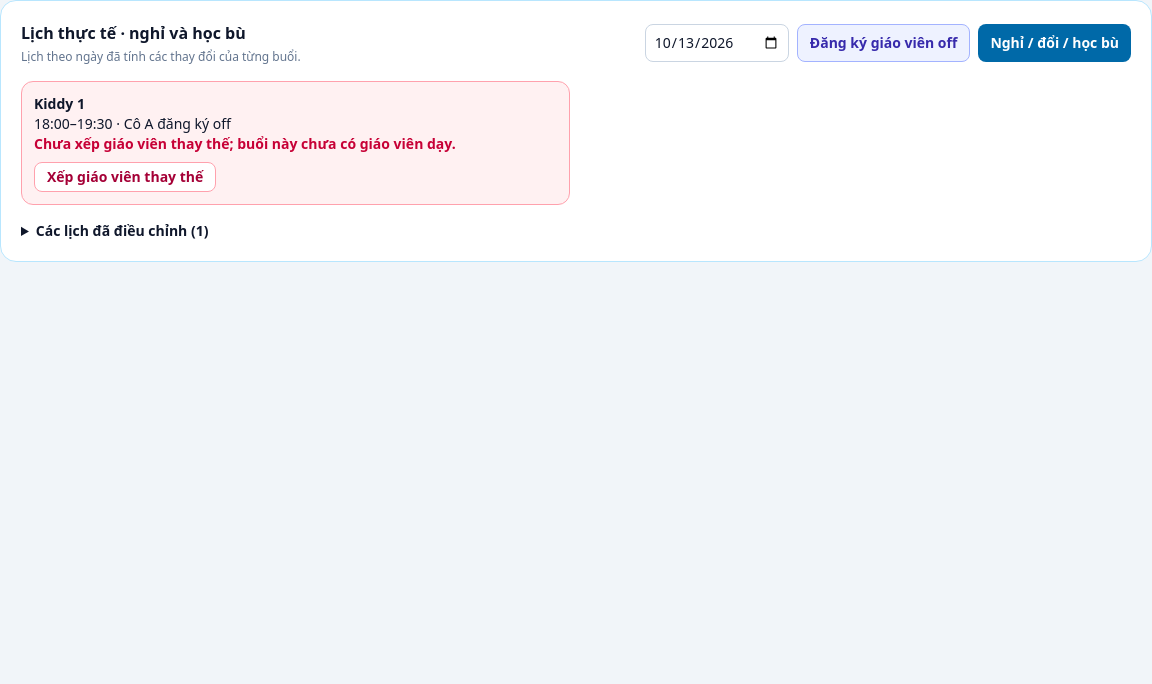
Test: shows an unassigned teacher leave in the dated schedule and offers substitute assignment
Expected: the text "Chưa xếp giáo viên thay thế; buổi này chưa có giáo viên dạy." is shown, [34, 134, 456, 153]
Click the button "Xếp giáo viên thay thế": (125, 177) [34, 162, 216, 192]
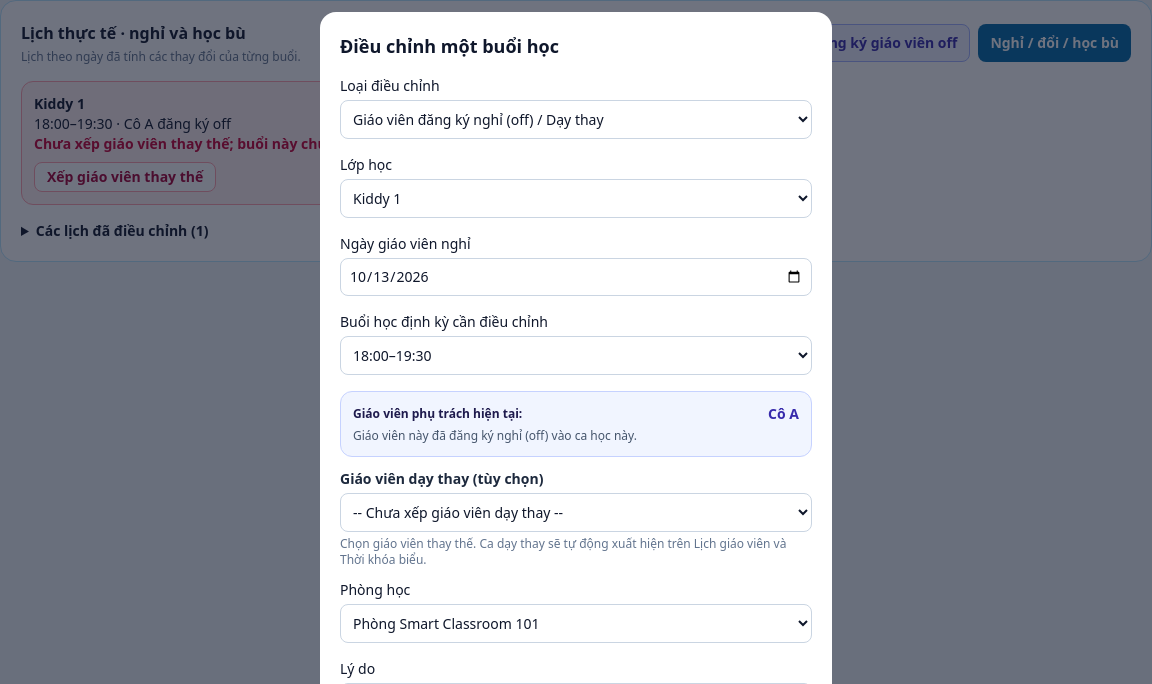
Expected: the dropdown labelled "Loại điều chỉnh" shows "Giáo viên đăng ký nghỉ (off) / Dạy thay", [340, 100, 812, 139]
